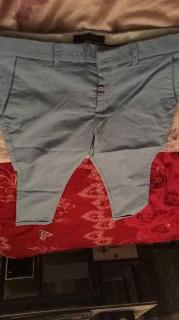trousers: (0, 26, 179, 226)
